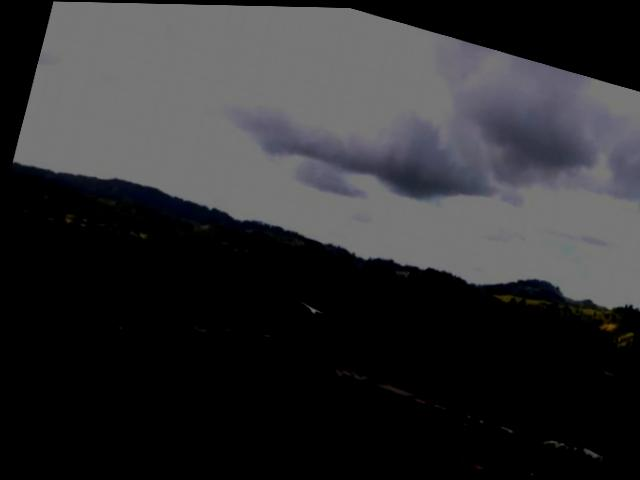iha: (297, 298, 324, 314)
